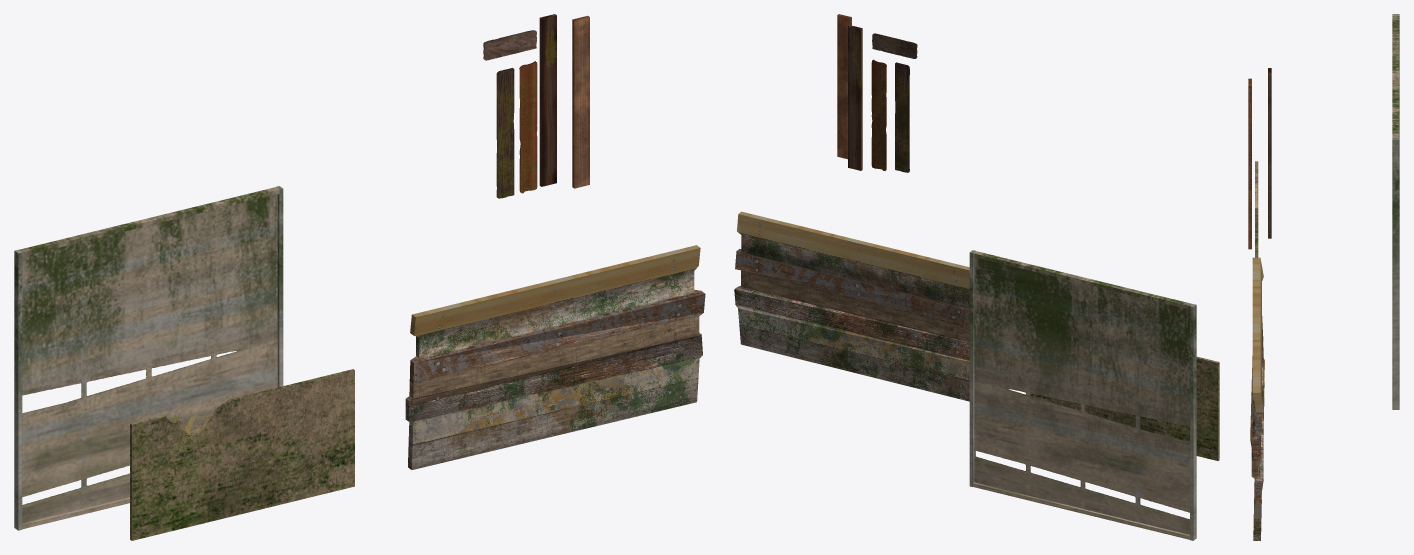
File: woodpieces.fbx
3 renders of one model, left to right at view 1: azimuth 30°, elevation 25°; view 2: azimuth 150°, elevation 25°; view 3: azimuth 270°, elevation 25°, orthographic. The views are drawn at different scales.
Parts seen in each view (by area): view 1: fence, woodslab_board1, woodboard_2, woodslabs; view 2: fence, woodslab_board1, woodslabs, woodboard_2; view 3: woodslab_board1, fence, woodslabs, woodboard_2.
Boxes of the visible parts, x1,y1,x2,y2 form: fence: (14, 186, 283, 530); woodslab_board1: (405, 245, 705, 469); woodboard_2: (130, 369, 354, 540); woodslabs: (483, 14, 589, 198); fence: (969, 250, 1196, 540); woodslab_board1: (734, 211, 969, 401); woodslabs: (837, 14, 917, 172); woodboard_2: (1030, 356, 1219, 460); woodslab_board1: (1250, 257, 1264, 540); fence: (1392, 14, 1399, 409); woodslabs: (1248, 68, 1271, 249); woodboard_2: (1255, 161, 1258, 257).
Size of the model in its own units: 417 by 290 by 91.44.
